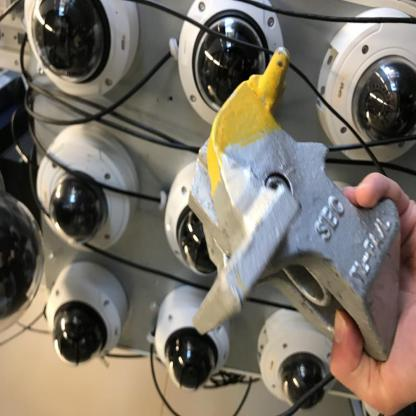Twistlock: (180, 40, 404, 373)
